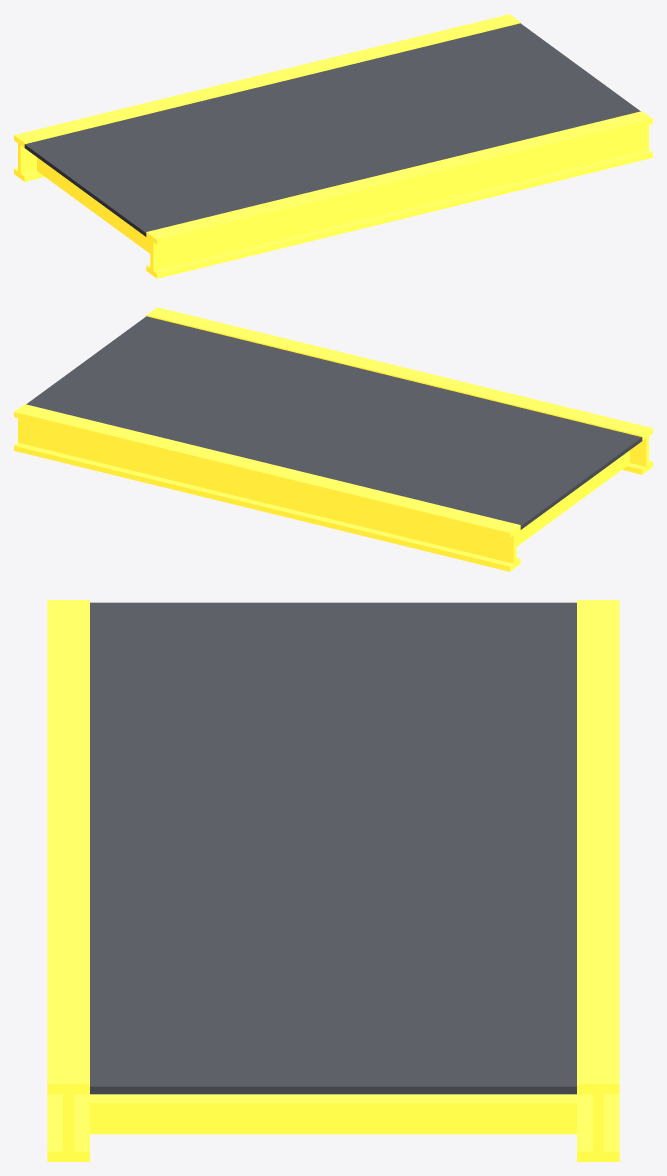
Rendered from ENV_MOD_08_CatwalkStraight.glb.
3 renders of one model, top to bottom at view 1: azimuth 30°, elevation 25°; view 2: azimuth 150°, elevation 25°; view 3: azimuth 270°, elevation 25°, orthographic. The views are drawn at different scales.
Visible parts, largest first — view 1: SM_ENV_MOD_08_CatwalkStraight; view 2: SM_ENV_MOD_08_CatwalkStraight; view 3: SM_ENV_MOD_08_CatwalkStraight.
Part boxes in pixels (<box>): SM_ENV_MOD_08_CatwalkStraight: <box>14,14,652,278</box>; SM_ENV_MOD_08_CatwalkStraight: <box>14,307,652,571</box>; SM_ENV_MOD_08_CatwalkStraight: <box>47,600,619,1161</box>.
Bounding box in the file's own units: 4 × 0.3 × 2.
